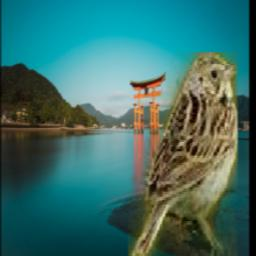Sparrow: (129, 52, 239, 256)
